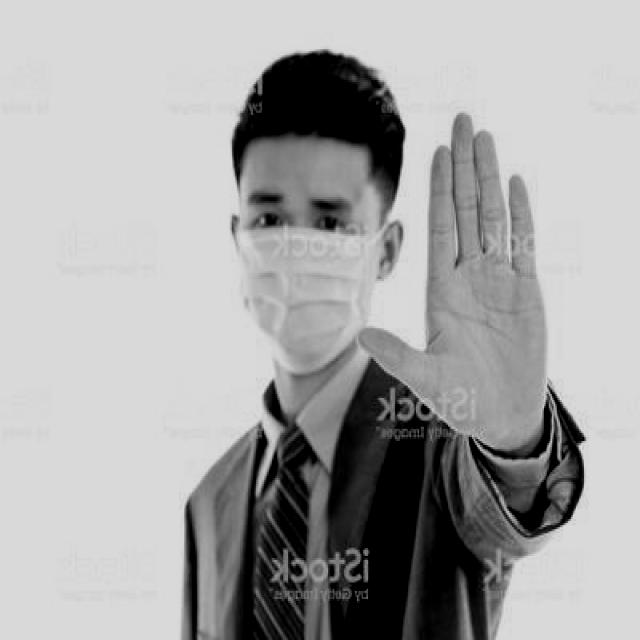face_mask: (240, 178, 381, 378)
hand_noglove: (358, 136, 552, 448)
head_nohelmet: (232, 49, 397, 185)
person: (168, 14, 589, 640)
